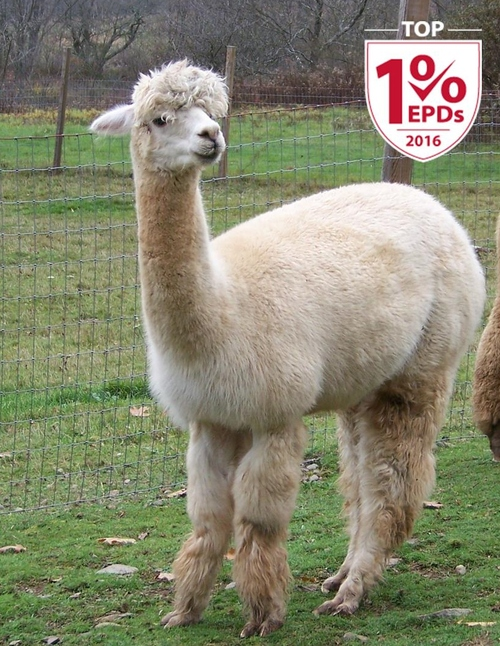alpaca: (86, 58, 486, 641)
